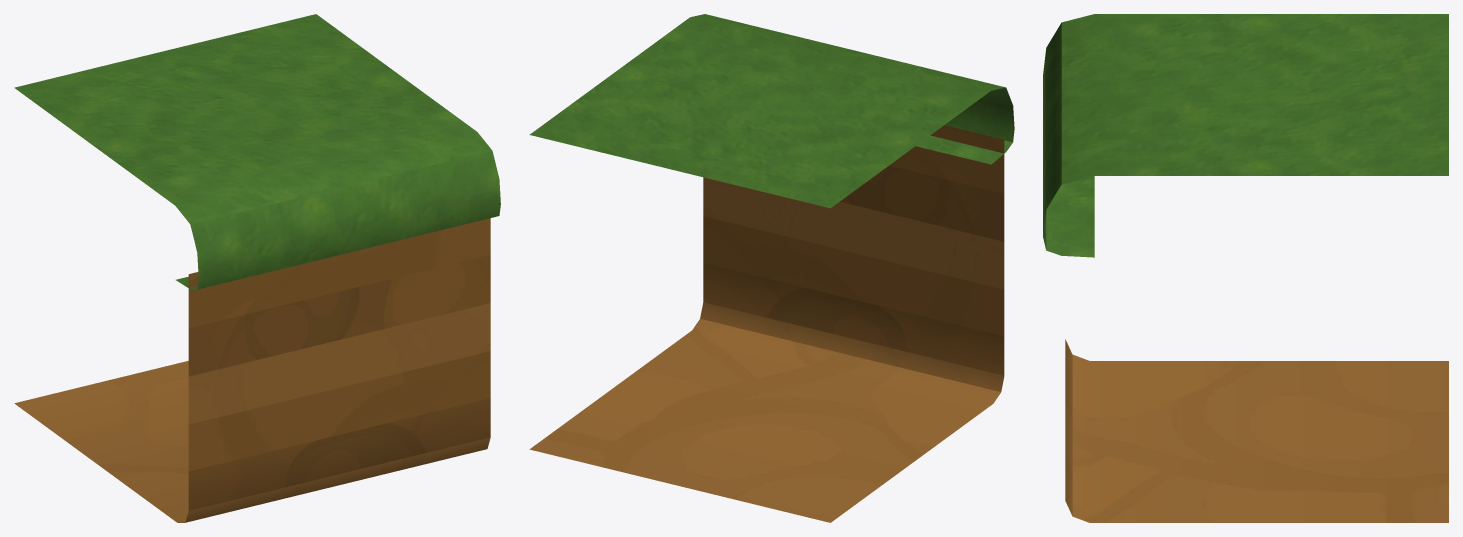
Rendered from cube_grass_side_single.obj.
3 renders of one model, left to right at view 1: azimuth 30°, elevation 25°; view 2: azimuth 150°, elevation 25°; view 3: azimuth 270°, elevation 25°, orthographic. The views are drawn at different scales.
Parts seen in each view (by area): view 1: Cube_Grass_Side_Cube.277; view 2: Cube_Grass_Side_Cube.277; view 3: Cube_Grass_Side_Cube.277.
Part boxes in pixels (left/top/right/bottom): Cube_Grass_Side_Cube.277: left=14, top=14, right=500, bottom=522; Cube_Grass_Side_Cube.277: left=529, top=14, right=1014, bottom=522; Cube_Grass_Side_Cube.277: left=1043, top=14, right=1448, bottom=522.
Bounding box in the file's own units: 2 × 2 × 2.12.
4 materials, 4 textured.
